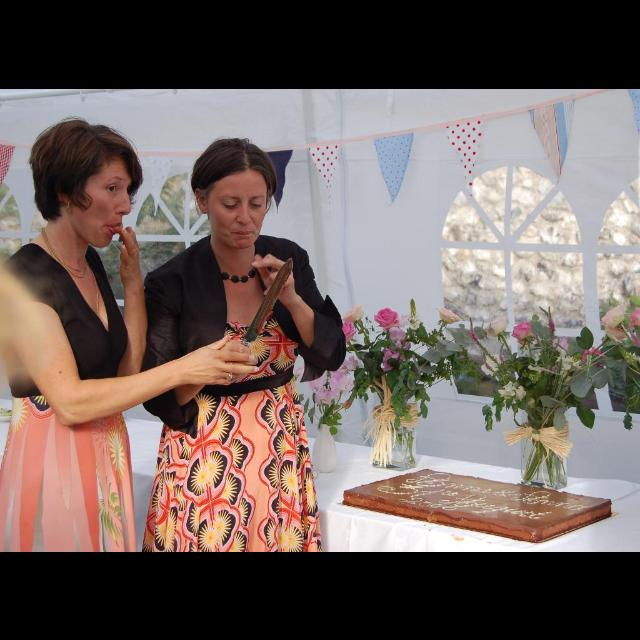Flower: (268, 383, 318, 549), (528, 334, 614, 378), (296, 356, 362, 406), (602, 303, 640, 369), (382, 328, 412, 370), (190, 458, 218, 498), (110, 424, 128, 476), (208, 406, 232, 442), (370, 305, 402, 331), (8, 396, 30, 432), (478, 349, 512, 371), (195, 392, 221, 418), (159, 509, 175, 551), (206, 451, 224, 487), (226, 437, 246, 469), (486, 314, 512, 338), (198, 522, 220, 550), (214, 507, 232, 541), (222, 472, 238, 504), (340, 302, 362, 324), (227, 531, 250, 551), (437, 303, 461, 321), (150, 523, 170, 543), (516, 320, 532, 342), (179, 434, 193, 458), (235, 501, 251, 522), (342, 318, 356, 339), (33, 392, 51, 403)
